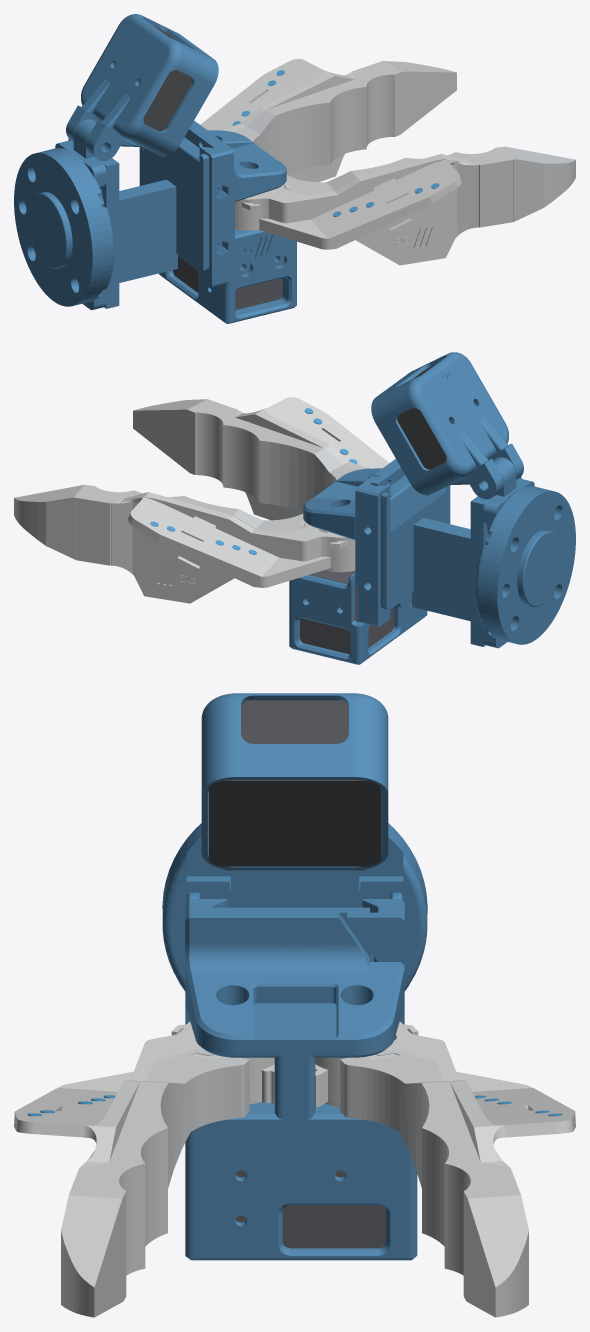
The model's file is chopstick_iso50.glb.
The picture shows the model from 3 angles, top to bottom: view 1: azimuth 30°, elevation 25°; view 2: azimuth 150°, elevation 25°; view 3: azimuth 270°, elevation 25°; orthographic projection. The views are drawn at different scales.
Visible parts, largest first — view 1: jaw_right, iso_flange_plate, tip_tpu_left, chopstick_base_sa, d405_cup, d405_frame, tip_tpu_right, jaw_left_sa, d405_envelope, servo_envelope; view 2: jaw_left_sa, iso_flange_plate, tip_tpu_right, d405_cup, d405_frame, chopstick_base_sa, tip_tpu_left, jaw_right, chopstick_clip_sa, servo_envelope, d405_envelope; view 3: chopstick_base_sa, tip_tpu_left, tip_tpu_right, d405_envelope, d405_cup, jaw_left_sa, jaw_right, iso_flange_plate, d405_frame, servo_envelope, chopstick_clip_sa.
Part boxes in pixels (x1,y1,x2,y2): jaw_right: (235,154,478,265); iso_flange_plate: (14,140,114,310); tip_tpu_left: (232,61,456,173); chopstick_base_sa: (159,120,296,323); d405_cup: (66,14,218,160); d405_frame: (68,119,209,308); tip_tpu_right: (281,146,575,227); jaw_left_sa: (200,59,354,181); d405_envelope: (114,25,192,131); servo_envelope: (173,256,282,309); jaw_left_sa: (111,492,355,603); iso_flange_plate: (475,478,575,648); tip_tpu_right: (133,399,357,511); d405_cup: (371,352,523,499); d405_frame: (380,457,521,646); chopstick_base_sa: (289,459,427,664); tip_tpu_left: (14,484,308,565); jaw_right: (235,397,389,520); chopstick_clip_sa: (355,476,390,626); servo_envelope: (300,570,393,654); d405_envelope: (397,363,475,469); chopstick_base_sa: (185,899,417,1260); tip_tpu_left: (340,1049,528,1317); tip_tpu_right: (61,1049,249,1317); d405_envelope: (209,700,380,866); d405_cup: (201,693,388,870); jaw_left_sa: (315,1021,575,1166); jaw_right: (14,1021,274,1166); iso_flange_plate: (162,823,427,991); d405_frame: (187,870,402,961); servo_envelope: (235,1170,385,1248); chopstick_clip_sa: (347,899,404,1024).
Bounding box in the file's own units: 0.2205 × 0.1269 × 0.1357.
